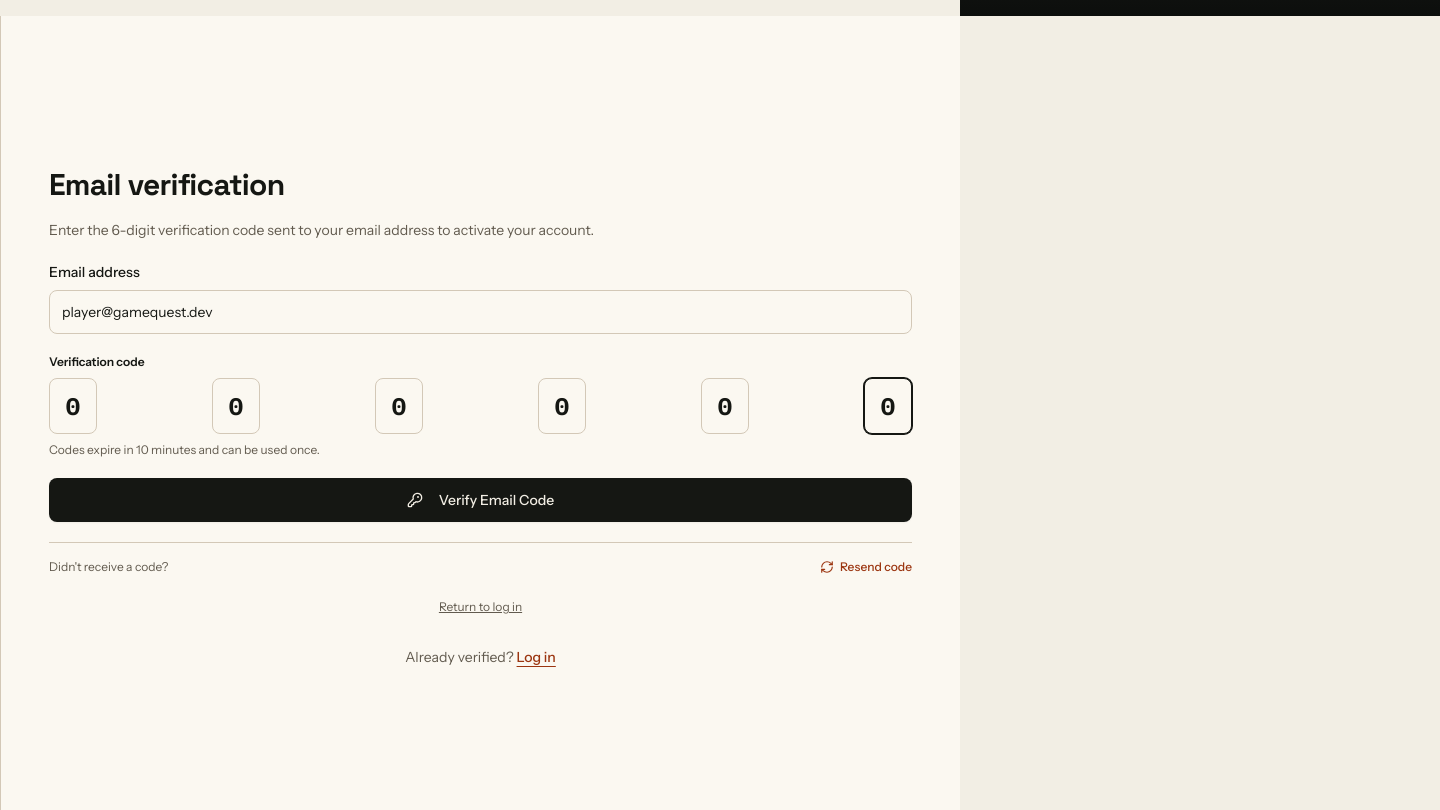
Email Verification Client Flow › VerifyEmail Page › displays error state with remaining attempts when code verification fails
The image size is (1440, 810).
(page scrolled)
Click the button "Verify Email Code": (480, 500) 49,478 -> 912,522
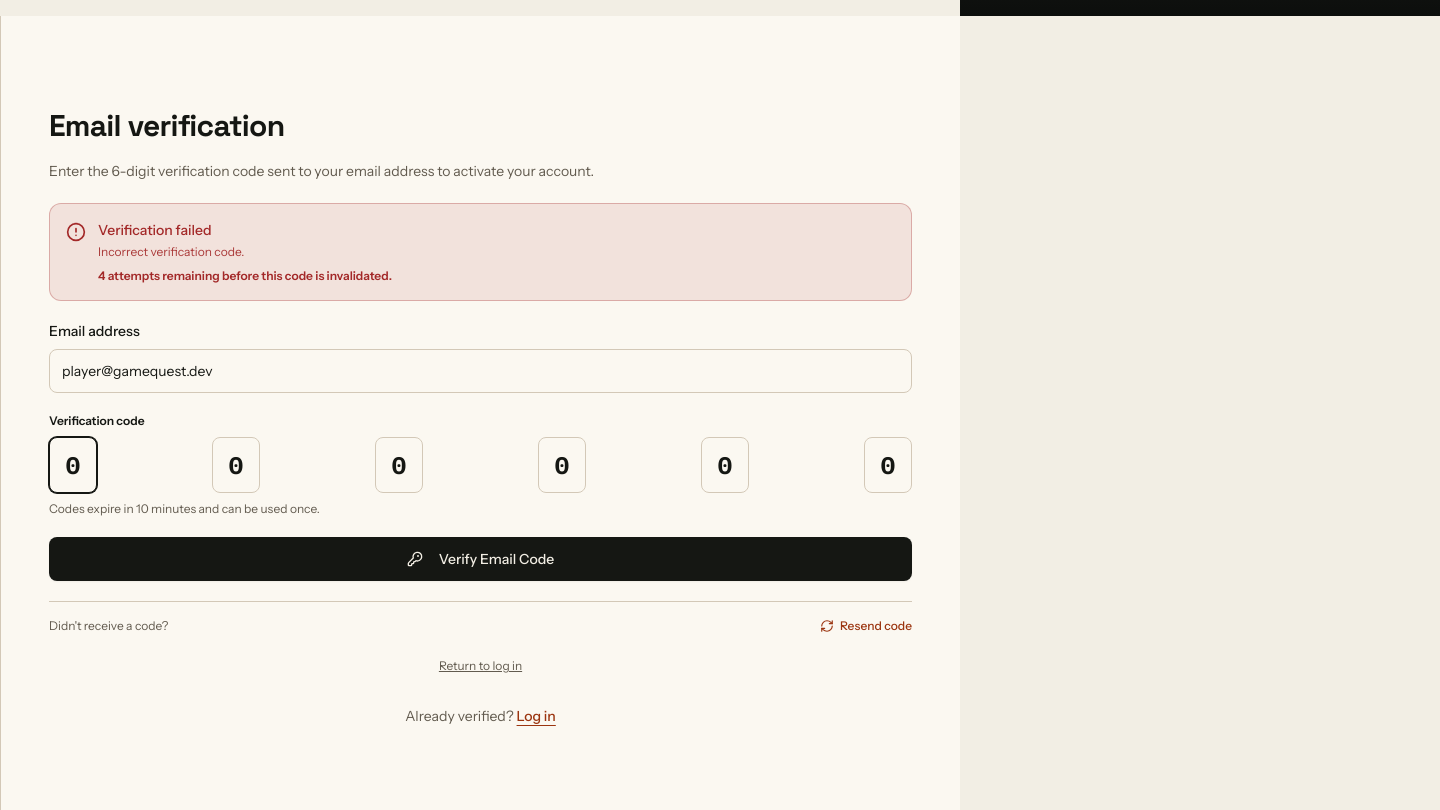
Expected: the text "Verification failed" is shown, 98,221 -> 212,239
Expected: the text "Incorrect verification code." is shown, 98,244 -> 244,259
Expected: the text "4 attempts remaining before this code is invalidated." is shown, 98,268 -> 392,284
